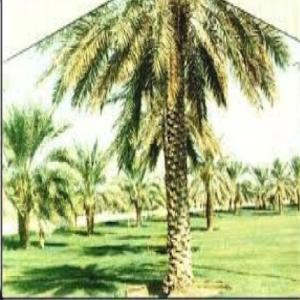palm tree: (2, 0, 299, 296), (2, 101, 72, 248), (226, 158, 250, 214), (267, 156, 290, 214), (252, 164, 270, 209), (288, 154, 299, 210)
